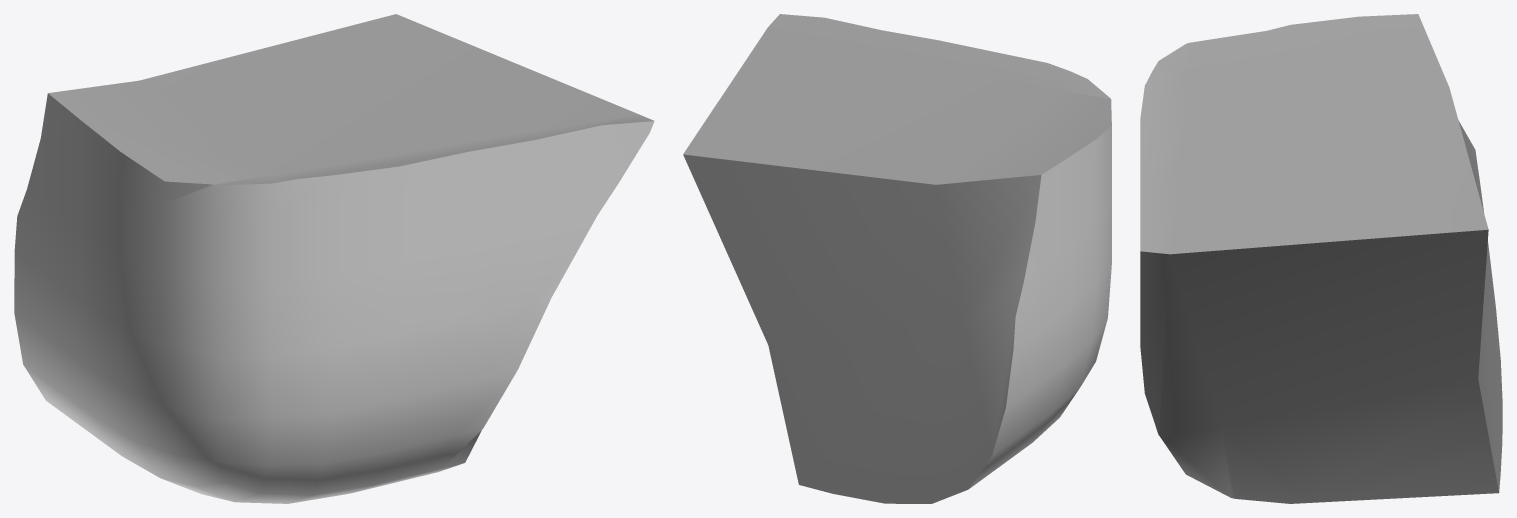
Rendered from Happy_Box9.fbx.
The picture shows the model from 3 angles, left to right: view 1: azimuth 30°, elevation 25°; view 2: azimuth 150°, elevation 25°; view 3: azimuth 270°, elevation 25°; orthographic projection. The views are drawn at different scales.
Parts seen in each view (by area): view 1: Happy_Box9; view 2: Happy_Box9; view 3: Happy_Box9.
Part boxes in pixels (box(x1,y1,x2,y2)): Happy_Box9: box(14, 14, 654, 503); Happy_Box9: box(683, 14, 1111, 503); Happy_Box9: box(1140, 14, 1502, 503).
Size of the model in its own units: 28.67 by 23.57 by 21.03.
Materials: 2 (1 with a texture image).
